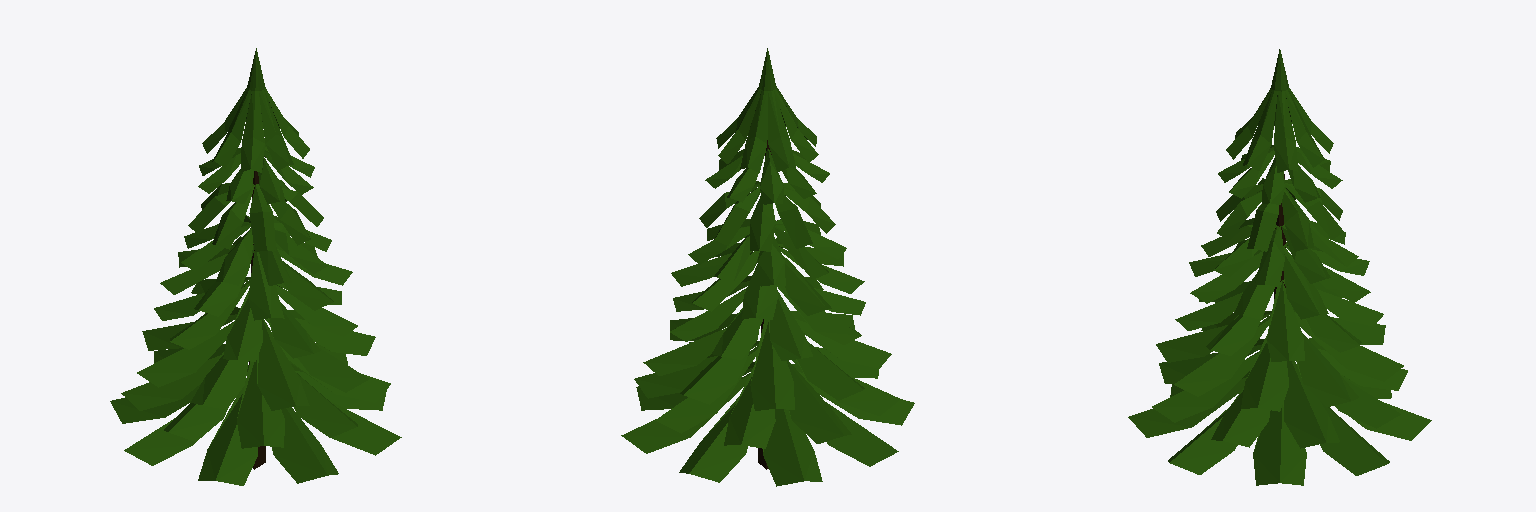
File: LowLowPolyFir.obj
3 views of the same model, side by side, from view 1: azimuth 30°, elevation 25°; view 2: azimuth 150°, elevation 25°; view 3: azimuth 270°, elevation 25° (orthographic).
Visible parts, largest first — view 1: Fir-tree_Cylinder.002; view 2: Fir-tree_Cylinder.002; view 3: Fir-tree_Cylinder.002.
Boxes of the visible parts, box(x1,y1,x2,y2) form: Fir-tree_Cylinder.002: box(110, 48, 401, 485); Fir-tree_Cylinder.002: box(621, 48, 914, 486); Fir-tree_Cylinder.002: box(1128, 49, 1431, 485).
Size of the model in its own units: 3.77 by 5.71 by 3.77.